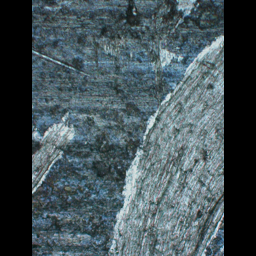d: (104, 29, 223, 256), (111, 0, 197, 79), (32, 108, 78, 199)
